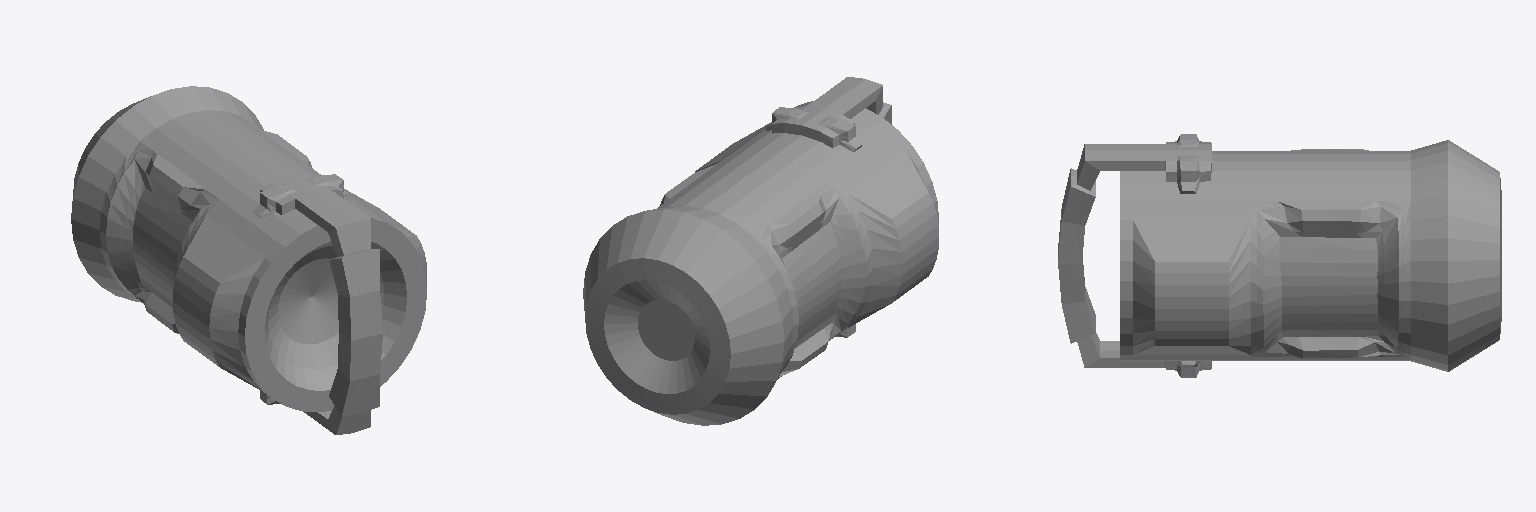
File: Portal_Battery.obj
The picture shows the model from 3 angles: view 1: azimuth 30°, elevation 25°; view 2: azimuth 150°, elevation 25°; view 3: azimuth 270°, elevation 25°; orthographic projection.
Parts seen in each view (by area): view 1: PortalBattery_PortalBattery_low.001_Cylinder.004; view 2: PortalBattery_PortalBattery_low.001_Cylinder.004; view 3: PortalBattery_PortalBattery_low.001_Cylinder.004.
Part boxes in pixels (left/top/right/bottom): PortalBattery_PortalBattery_low.001_Cylinder.004: left=71, top=86, right=426, bottom=434; PortalBattery_PortalBattery_low.001_Cylinder.004: left=583, top=77, right=938, bottom=425; PortalBattery_PortalBattery_low.001_Cylinder.004: left=1058, top=134, right=1501, bottom=377.
Bounding box in the file's own units: 0.1964 × 0.1816 × 0.3459.